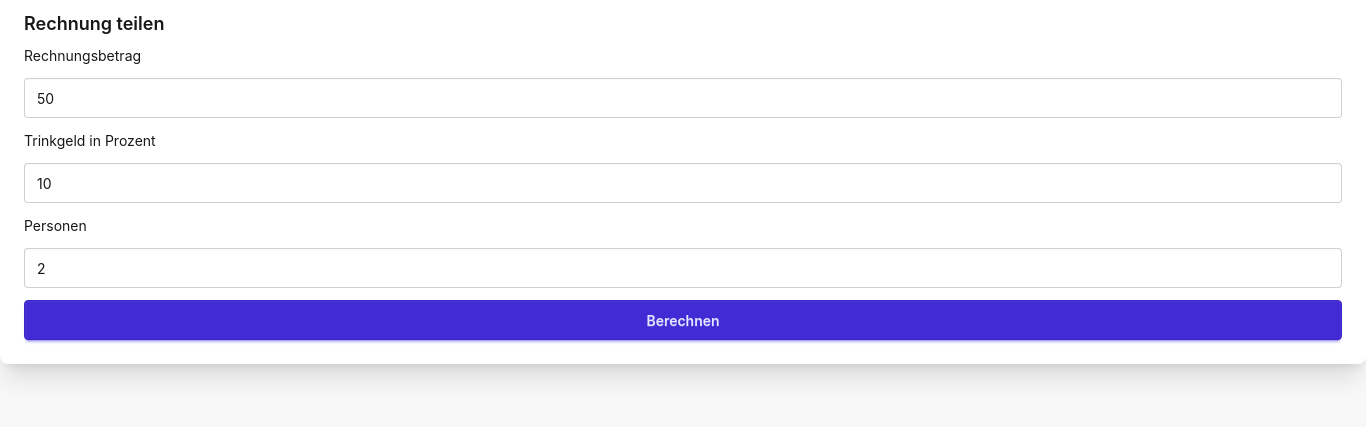
groupBillCalculator: Mock › übergibt die Eingaben und zeigt das vorgegebene Ergebnis
Replace the text in the number field labelled "Rechnungsbetrag" with "100" at x=683, y=98, box [24, 78, 1342, 118]
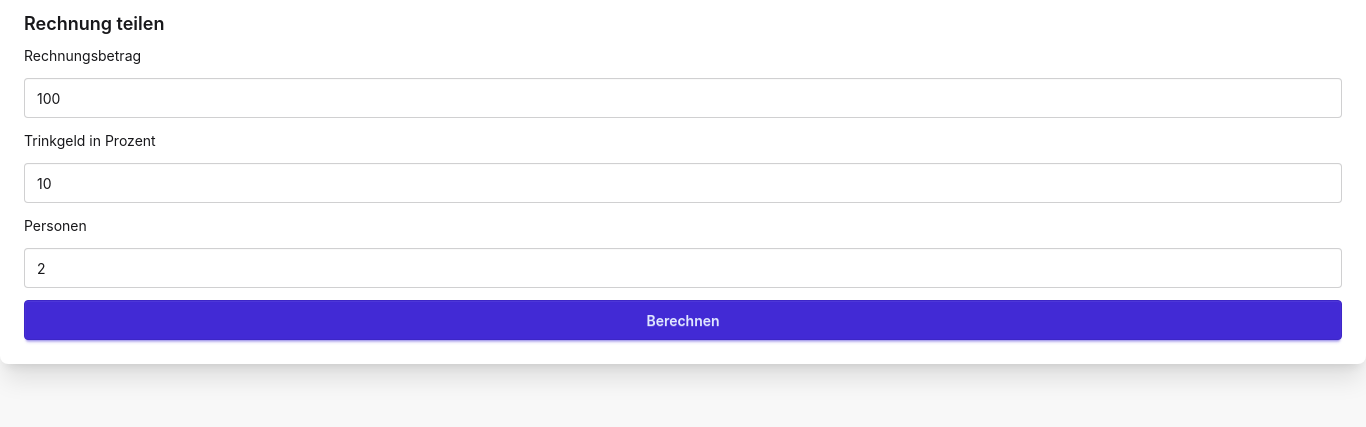
Replace the text in the number field labelled "Trinkgeld in Prozent" with "20" at x=683, y=183, box [24, 163, 1342, 203]
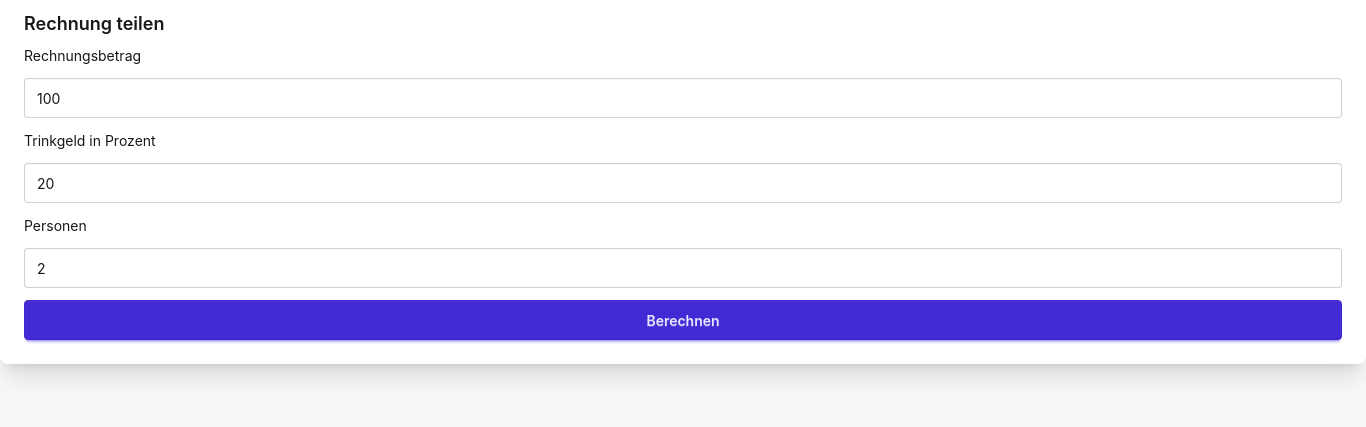
Replace the text in the number field labelled "Personen" with "4" at x=683, y=268, box [24, 248, 1342, 288]
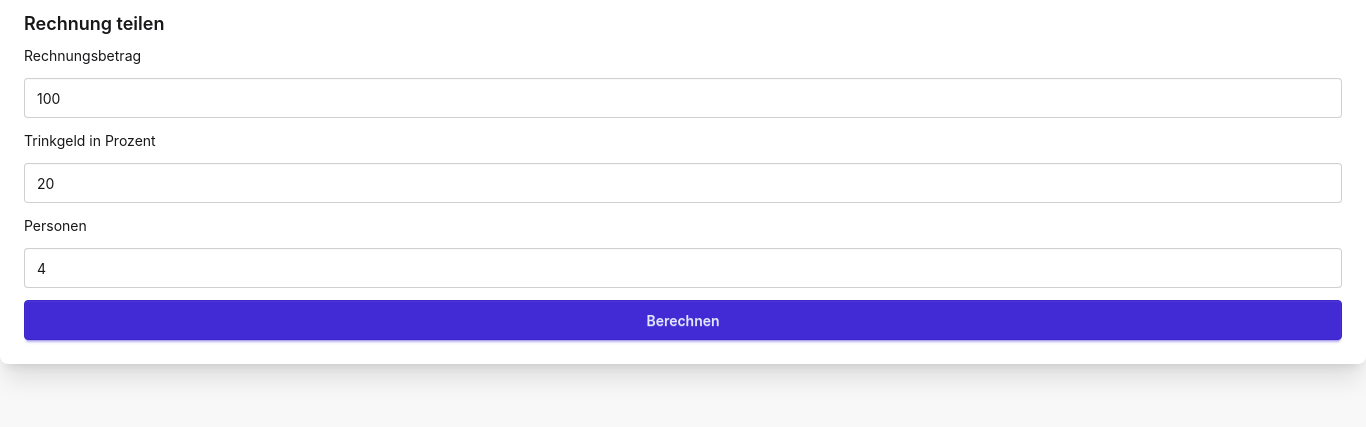
Click the button "Berechnen" at x=683, y=320, box [24, 300, 1342, 340]
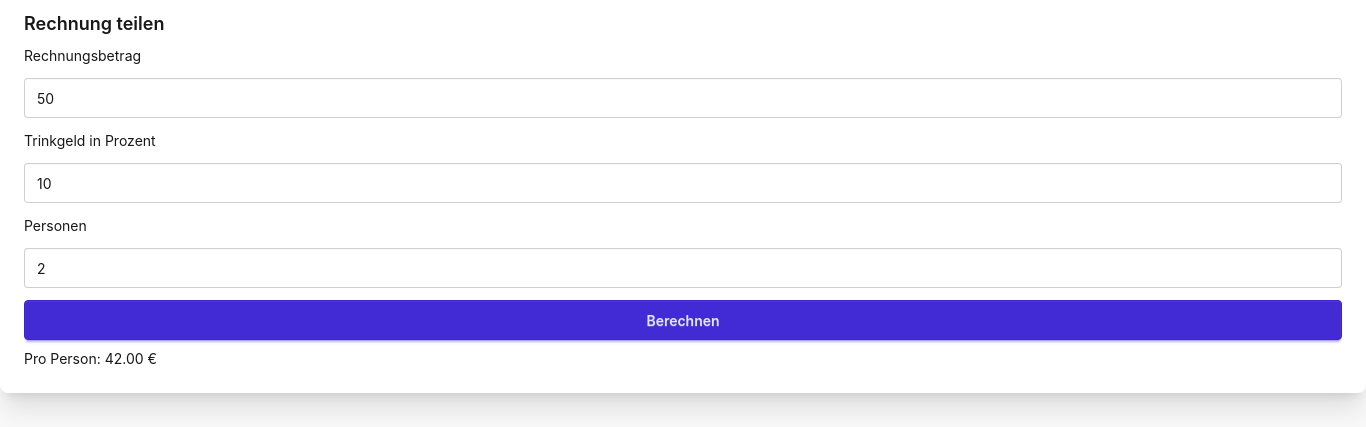
Expected: the text "Pro Person: 42.00 €" is shown, [24, 350, 157, 367]
